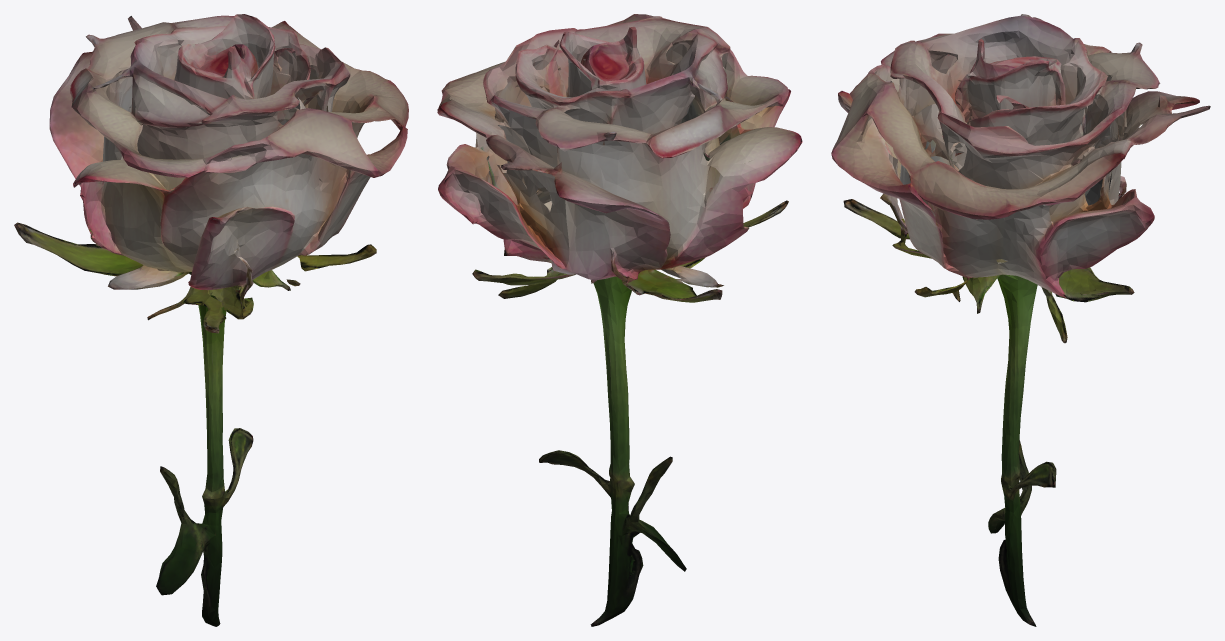
3 renders of one model, left to right at view 1: azimuth 30°, elevation 25°; view 2: azimuth 150°, elevation 25°; view 3: azimuth 270°, elevation 25°, orthographic. The views are drawn at different scales.
Visible parts, largest first — view 1: world; view 2: world; view 3: world.
Boxes of the visible parts, box(x1,y1,x2,y2) form: world: box(14, 14, 408, 626); world: box(437, 14, 802, 626); world: box(831, 14, 1210, 626).
Size of the model in its own units: 0.5742 by 0.9668 by 0.5724.
1 material, 1 textured.
